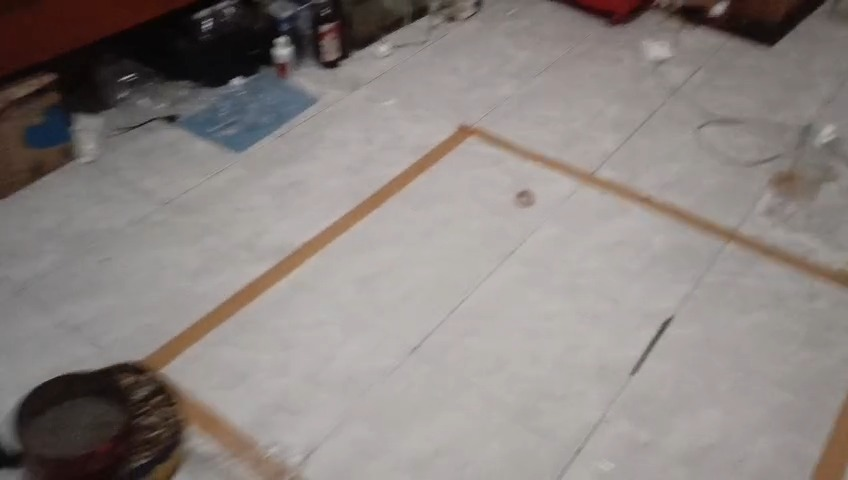floor marking: (142, 125, 847, 370), (181, 393, 301, 479), (813, 417, 847, 479)
